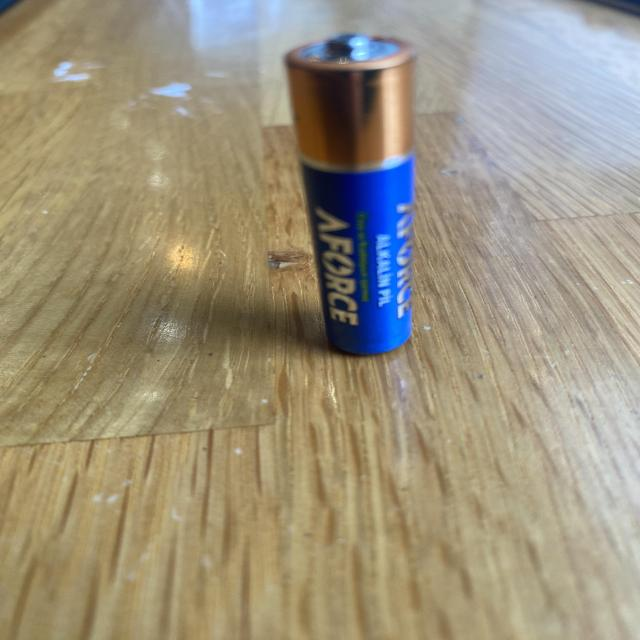AAA: (283, 32, 418, 355)
